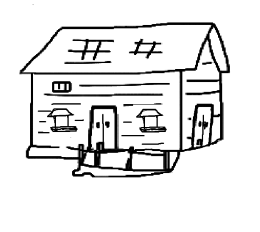door: (85, 102, 121, 156), (188, 100, 217, 151)
open_window: (137, 109, 166, 132), (48, 108, 76, 131)
roof: (18, 22, 231, 78)
wall: (26, 68, 186, 155)
